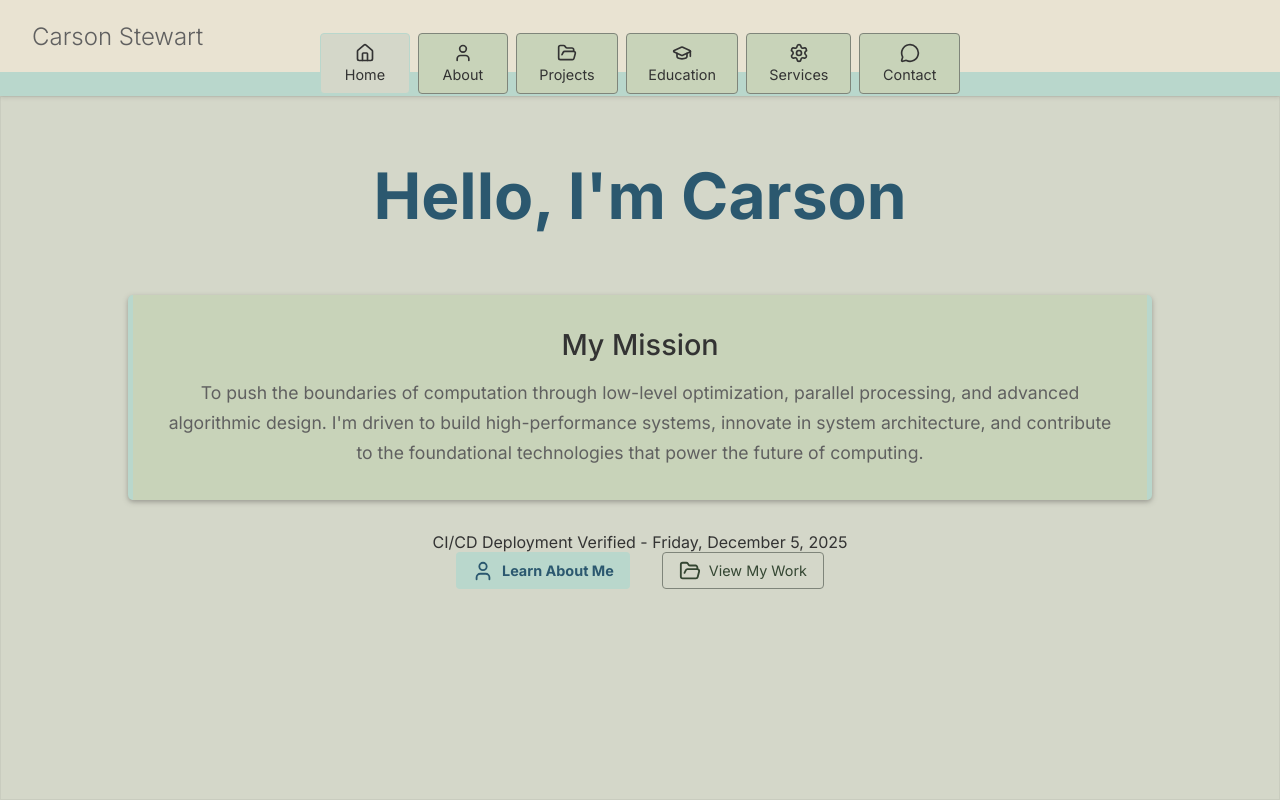
Test: App navigation › renders home page by default and navigates to about page
Expected: the heading "Hello, I'm Carson" is shown, [373, 157, 907, 234]
Note: Click on the 'About' navigation link
Click the button "About" at (463, 63), box [418, 33, 508, 94]
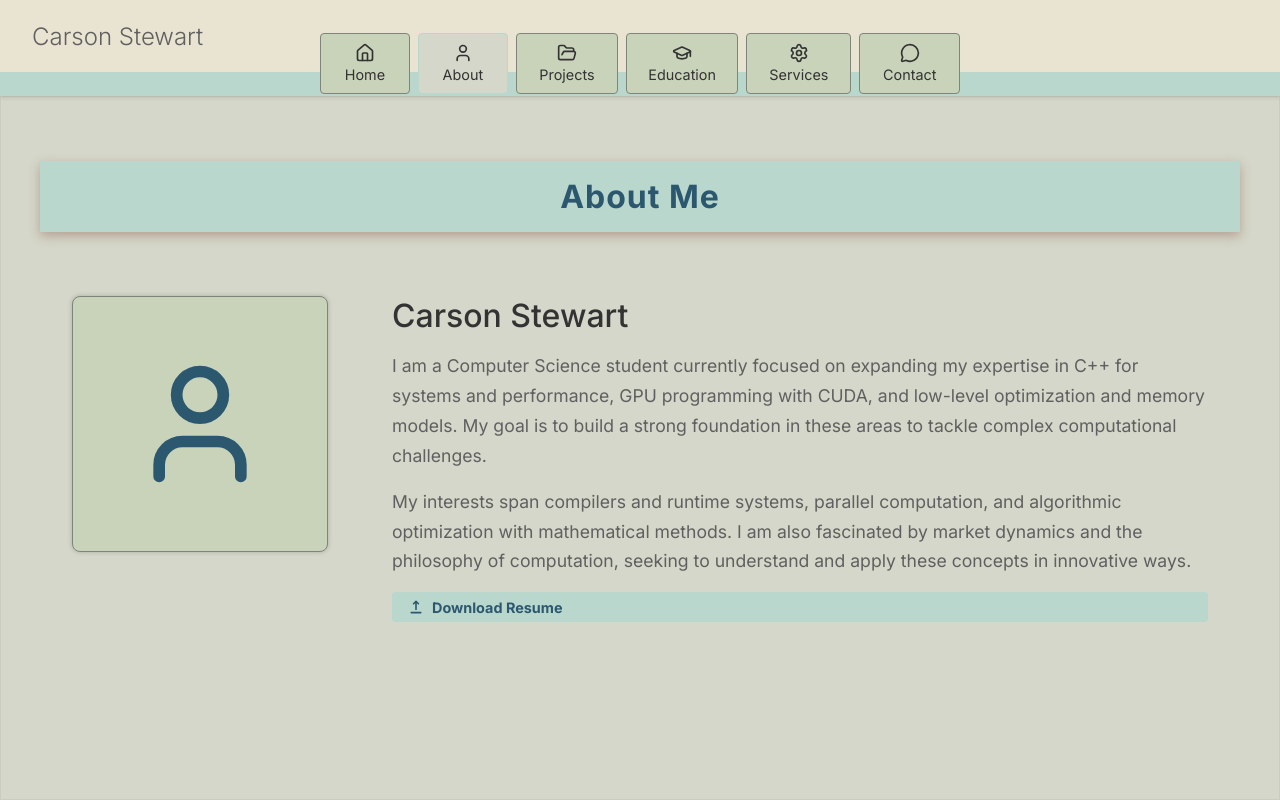
Expected: the heading "About Me" is shown, [560, 177, 720, 216]
Expected: the heading "Hello, I'm Carson" is gone
